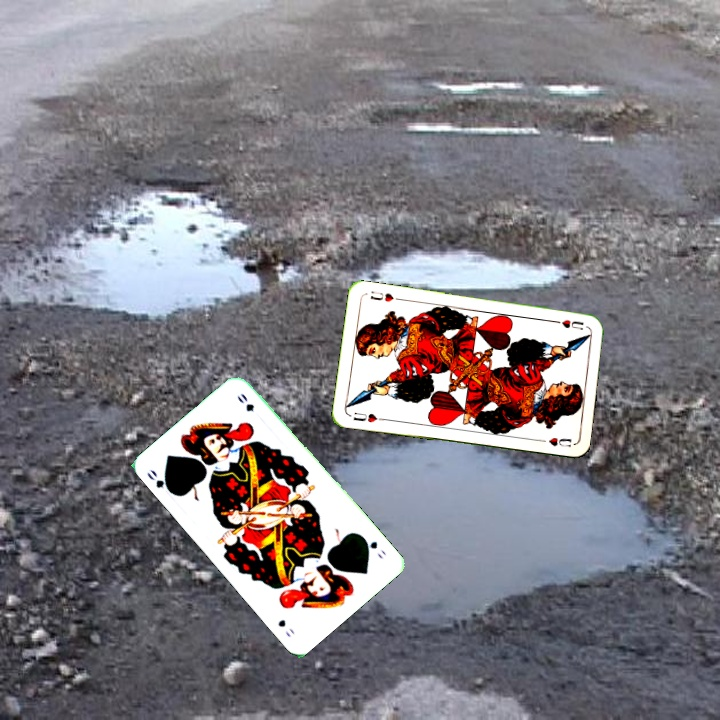GO: (142, 466, 177, 497), (358, 532, 389, 562)
HU: (349, 408, 387, 425), (558, 315, 586, 332)
